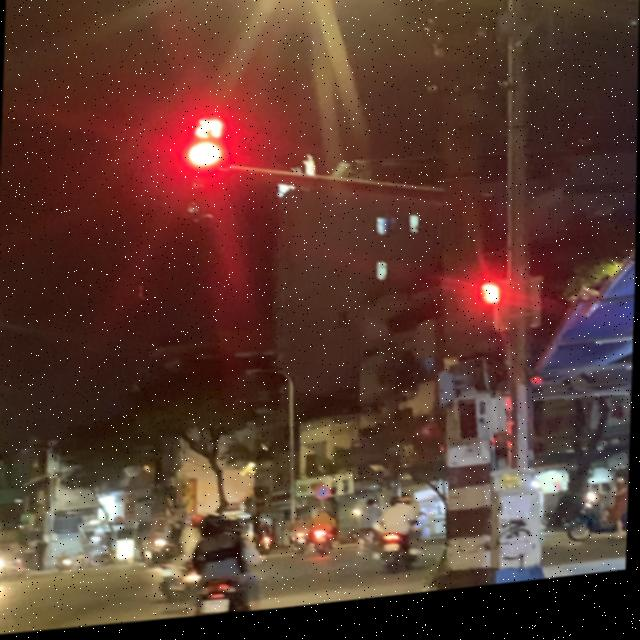Red: (184, 138, 233, 237)
